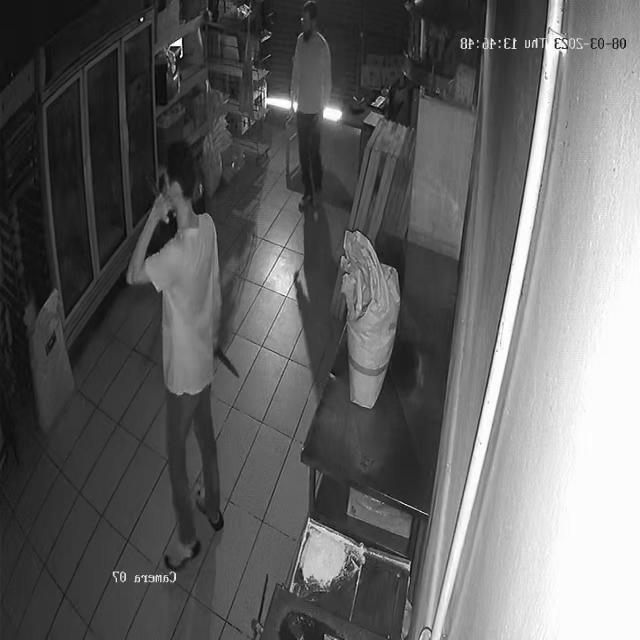Knife: (214, 346, 250, 386)
